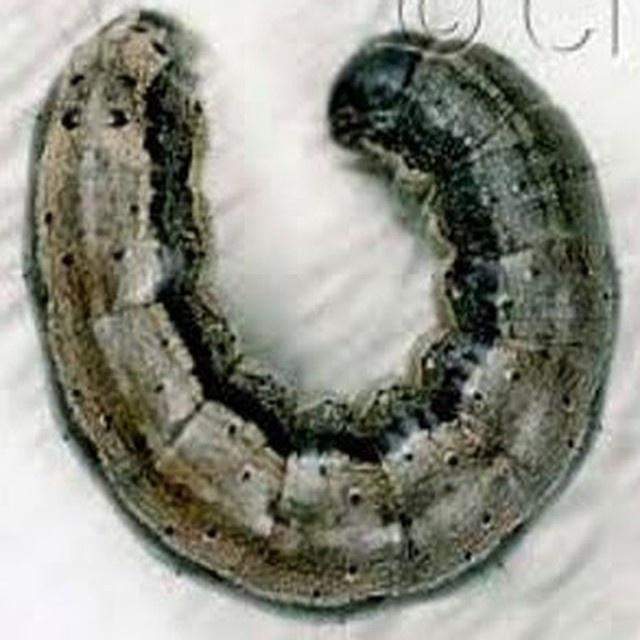gusano_cogollero: (39, 19, 618, 612)
